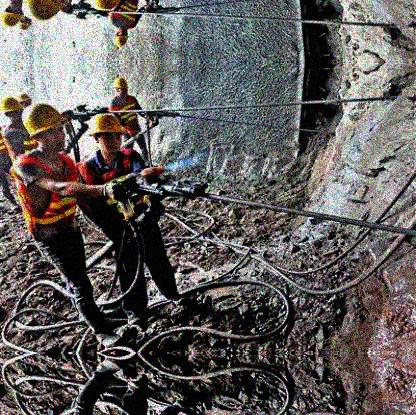helmet: (22, 104, 68, 152), (87, 113, 126, 152), (2, 1, 23, 26), (4, 99, 23, 124), (114, 76, 129, 98), (113, 28, 127, 47)
